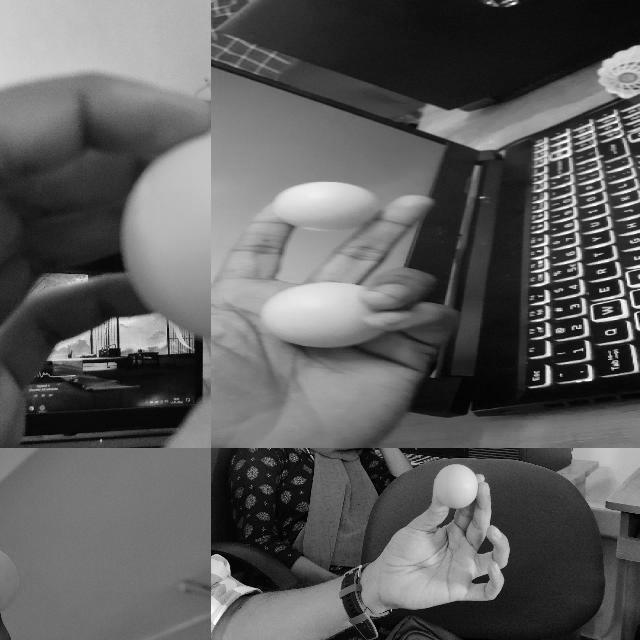ping-pong-ball: (118, 132, 210, 343), (264, 282, 379, 348), (272, 183, 377, 229), (435, 463, 479, 509), (0, 545, 19, 613)
